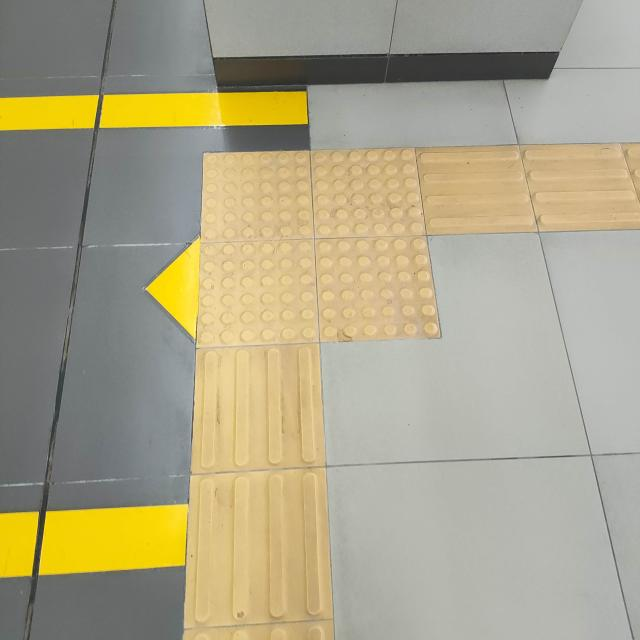kanan: (112, 118, 640, 416)
